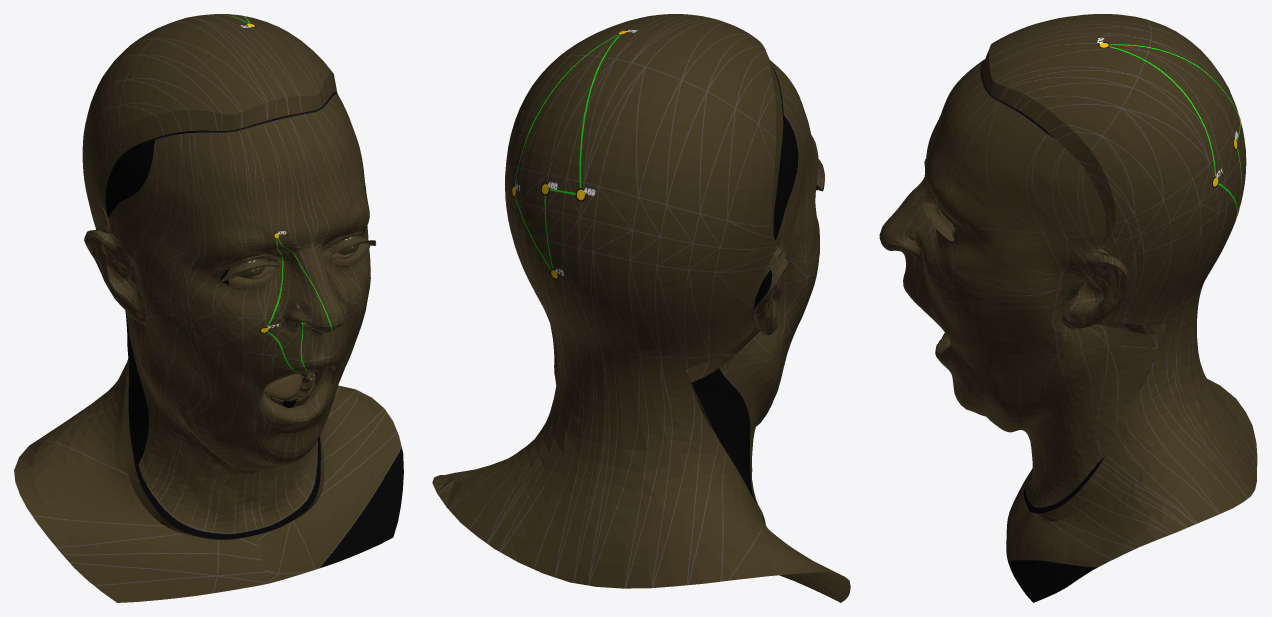
File: ict_eye_occlusion_left_iris5_textured.obj
3 views of the same model, side by side, from view 1: azimuth 30°, elevation 25°; view 2: azimuth 150°, elevation 25°; view 3: azimuth 270°, elevation 25° (orthographic). The views are drawn at different scales.
Size of the model in its own units: 1.02 by 1.38 by 0.9253.
1 material, 1 textured.
